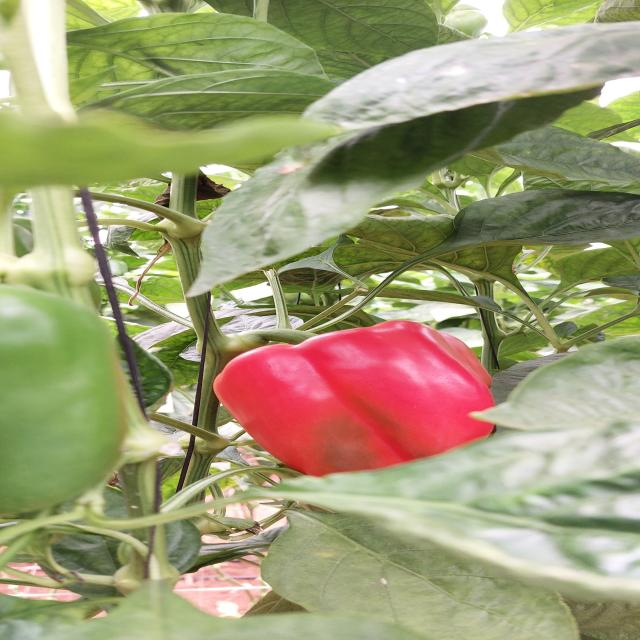Red-Ready-to-Harvest: (194, 326, 540, 504)
